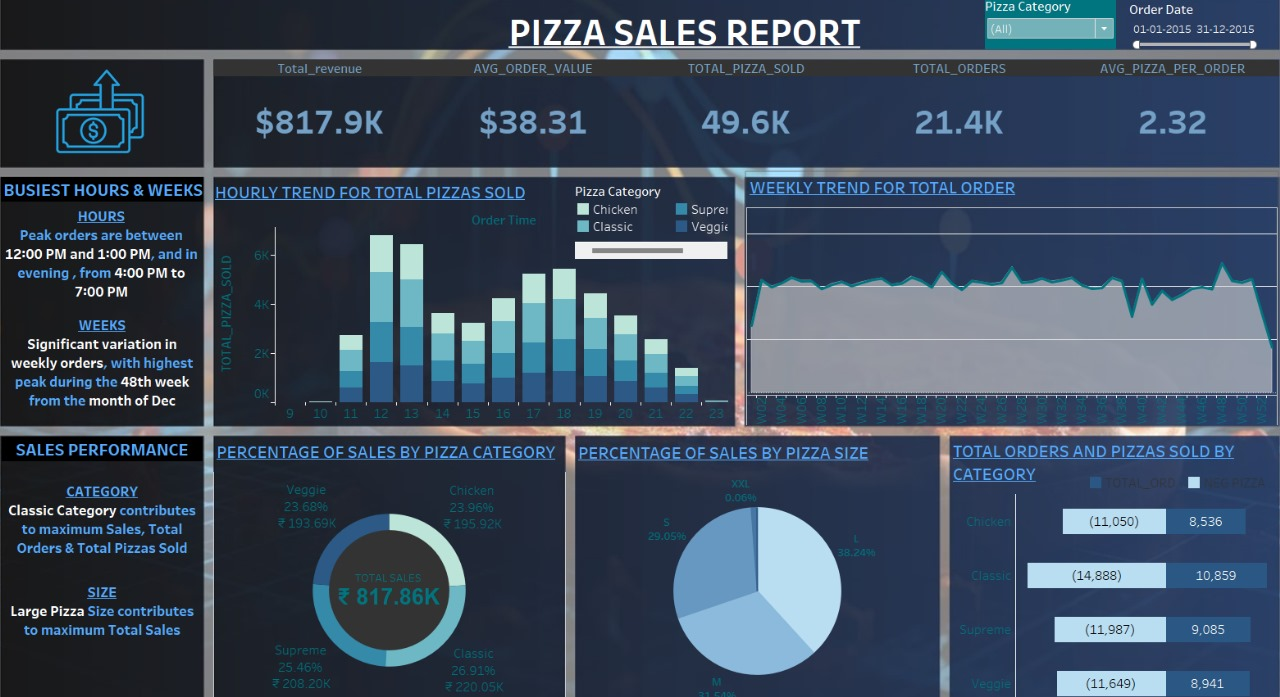

The page's visual inventory and layout, read from the dashboard file:
{"tool":"tableau","page":{"name":"Dashboard 1","canvas":[1600,900],"ordinal":0},"visuals":[{"type":"image","param":"Image/Pizza Tableau 1.jpg","box":[0,0,1600,900]},{"type":"filter","title":"Hourly_trend","param":"[federated.0vllqu708ze9sg1bsz0kl11e59ws].[none:pizza_category:nk]","box":[1220,13,160,63]},{"type":"filter","title":"Hourly_trend","param":"[federated.0vllqu708ze9sg1bsz0kl11e59ws].[none:order_date:qk]","box":[1396,17,160,60]},{"type":"text","box":[636,28,439,50]},{"type":"worksheet","title":"KPI","mark":"Automatic","box":[279,89,1300,128]},{"type":"image","param":"Image/profit-growth.png","box":[30,90,222,123]},{"type":"worksheet","title":"weekly","mark":"Area","rows":["Calculation_539869027649589249","Calculation_539869027649589249"],"cols":["order_date"],"box":[929,226,648,310]},{"type":"text","box":[20,232,247,30]},{"type":"worksheet","title":"Hourly_trend","mark":"Bar","rows":["Calculation_539869027649953795"],"cols":["order_time"],"box":[277,232,635,300]},{"type":"legend","title":"Hourly_trend","param":"[federated.0vllqu708ze9sg1bsz0kl11e59ws].[none:pizza_category:nk]","box":[720,239,188,93]},{"type":"text","box":[19,267,247,117]},{"type":"text","box":[20,389,247,138]},{"type":"worksheet","title":"TOTAL ORDERS AND PIZZAS SOLD BY CATE","mark":"Automatic","rows":["pizza_category"],"box":[1177,548,402,335]},{"type":"text","box":[21,549,245,30]},{"type":"worksheet","title":"Sales vs Category","mark":"Pie","rows":["Calculation_539869027692146694","Calculation_539869027692261384"],"box":[279,549,430,333]},{"type":"worksheet","title":"Sales vs Size","mark":"Pie","box":[720,550,445,332]},{"type":"text","box":[20,592,247,115]},{"type":"legend","title":"TOTAL ORDERS AND PIZZAS SOLD BY CATE","param":"[federated.0vllqu708ze9sg1bsz0kl11e59ws].[:Measure Names]","box":[1273,595,318,27]},{"type":"text","box":[20,715,247,92]}]}

Visuals, with their boxes on the page's 1600x900 design canvas (x1, y1, x2, y2). These are canvas units, not pixel positions in the 1280x697 screenshot, which may show the page scaled, cropped or inside an application window:
image: 0 0 1600 900
"Hourly_trend" filter: 1220 13 1380 76
"Hourly_trend" filter: 1396 17 1556 77
text: 636 28 1075 78
"KPI" worksheet: 279 89 1579 217
image: 30 90 252 213
"weekly" worksheet (Area marks): 929 226 1577 536
text: 20 232 267 262
"Hourly_trend" worksheet (Bar marks): 277 232 912 532
"Hourly_trend" legend: 720 239 908 332
text: 19 267 266 384
text: 20 389 267 527
"TOTAL ORDERS AND PIZZAS SOLD BY CATE" worksheet: 1177 548 1579 883
text: 21 549 266 579
"Sales vs Category" worksheet (Pie marks): 279 549 709 882
"Sales vs Size" worksheet (Pie marks): 720 550 1165 882
text: 20 592 267 707
"TOTAL ORDERS AND PIZZAS SOLD BY CATE" legend: 1273 595 1591 622
text: 20 715 267 807
